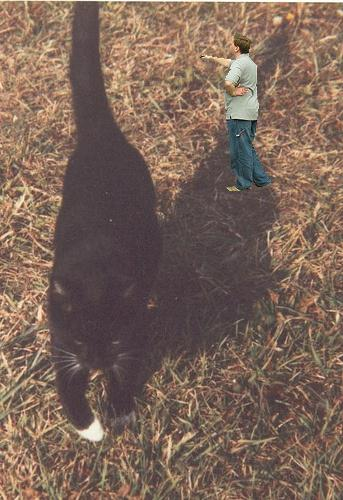tampered: (201, 34, 271, 191)
